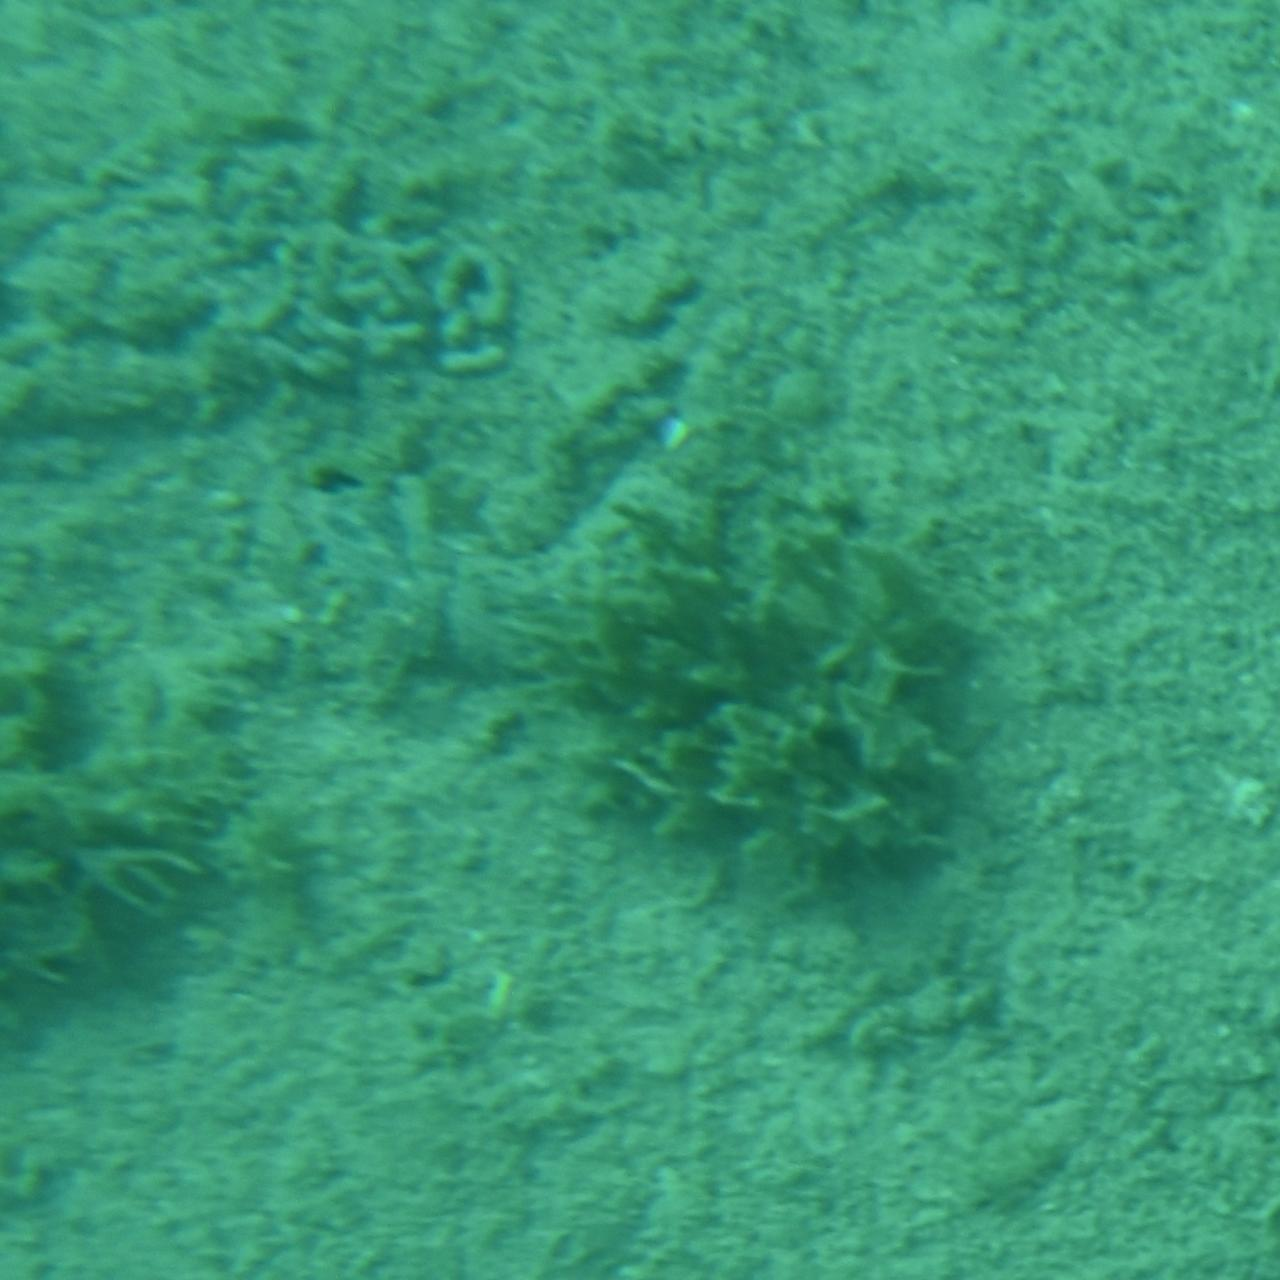Holothuria tubulosa: (268, 470, 727, 693)
Phaeophyceae -cfr Cystoseira-: (563, 496, 1001, 904)
